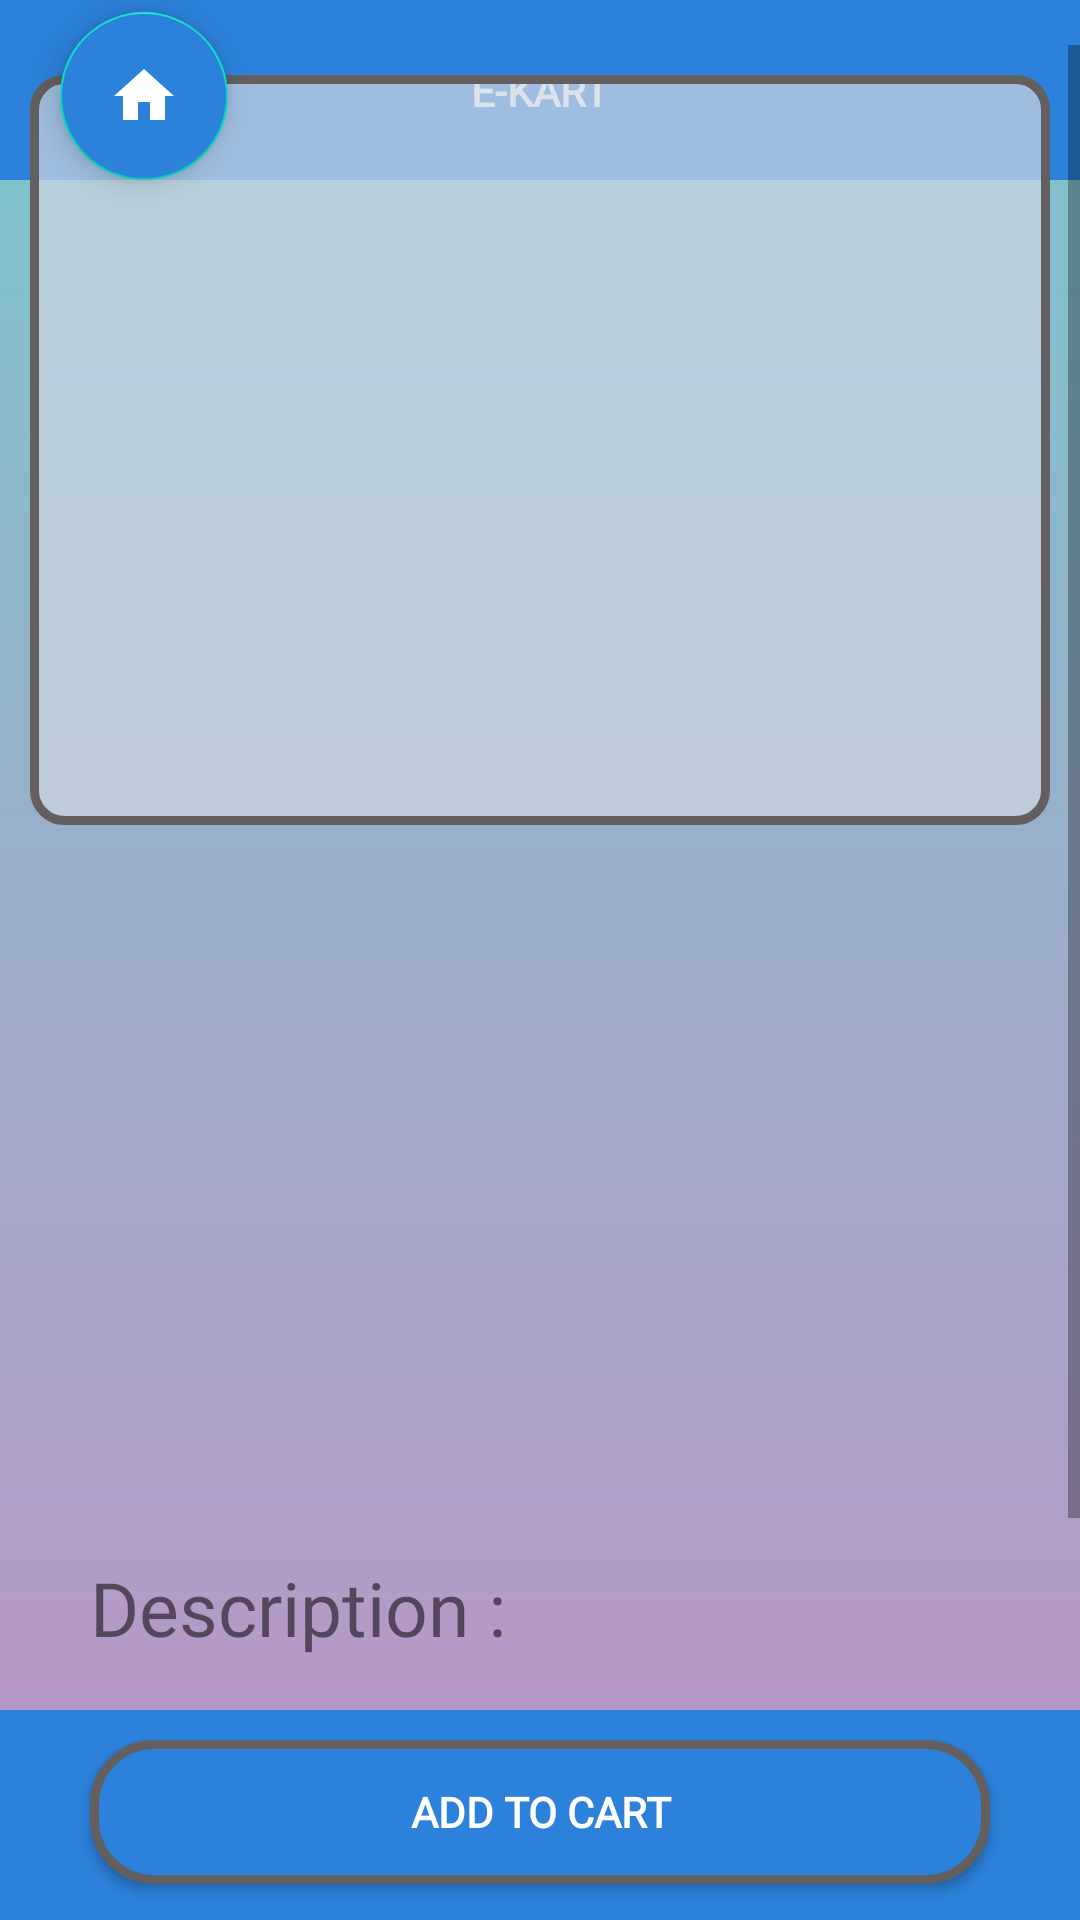

Point at icon controls on the screen. Image size 1080px x 1920px, points as (x,y).
home: (144,96)
